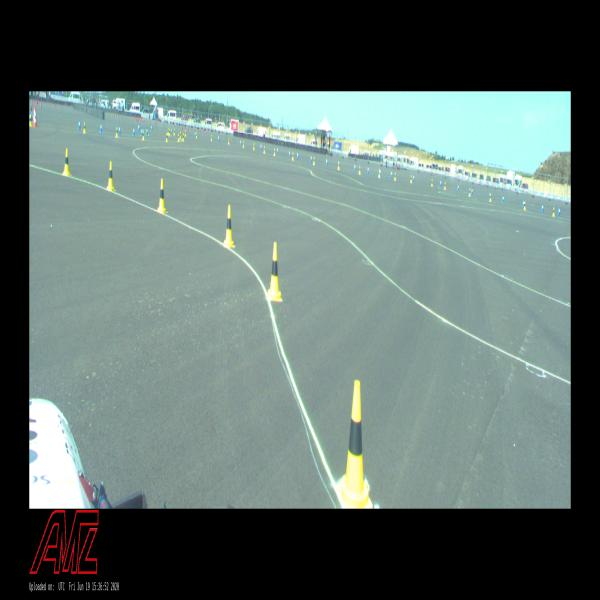blue_cone: (78, 120, 81, 129), (558, 207, 561, 215), (541, 204, 544, 212), (353, 163, 356, 171), (439, 179, 442, 186), (146, 126, 148, 136), (133, 127, 135, 136), (502, 195, 504, 203), (310, 154, 312, 162), (367, 166, 369, 174), (326, 158, 328, 166), (100, 124, 102, 132), (118, 126, 120, 134), (390, 170, 392, 178), (522, 199, 524, 207), (288, 150, 290, 157), (260, 143, 262, 150), (296, 152, 298, 159), (471, 188, 473, 195), (457, 184, 459, 190), (151, 125, 153, 131), (413, 174, 414, 181), (277, 148, 278, 154)
large_orange_cone: (33, 108, 37, 127), (33, 106, 35, 123)
yellow_cone: (338, 380, 373, 508), (267, 242, 282, 300), (224, 205, 234, 247), (158, 178, 167, 212), (106, 161, 115, 191), (62, 149, 70, 175), (83, 121, 86, 133), (29, 115, 32, 126), (142, 130, 145, 140), (552, 206, 555, 216), (523, 200, 526, 210), (489, 193, 492, 202), (273, 148, 276, 156), (116, 126, 118, 138), (468, 189, 471, 196), (264, 145, 266, 154), (166, 133, 168, 142), (444, 181, 446, 190), (410, 174, 412, 183), (394, 172, 396, 181), (378, 169, 380, 178), (358, 166, 360, 174), (431, 178, 433, 186), (292, 152, 294, 160), (313, 157, 315, 165), (210, 134, 212, 141), (253, 143, 255, 150), (338, 162, 340, 169), (242, 141, 244, 148), (174, 128, 176, 135), (228, 138, 230, 144), (183, 133, 184, 141), (178, 134, 179, 142), (169, 128, 170, 136), (196, 132, 197, 138)
